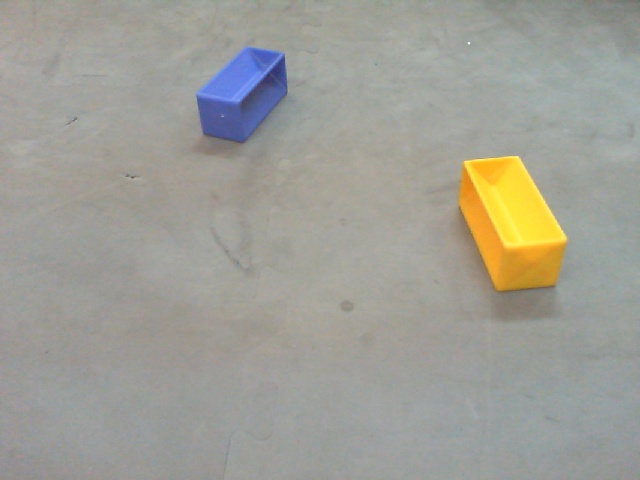BlueSample: (190, 43, 301, 147)
YellowSample: (454, 151, 569, 298)
